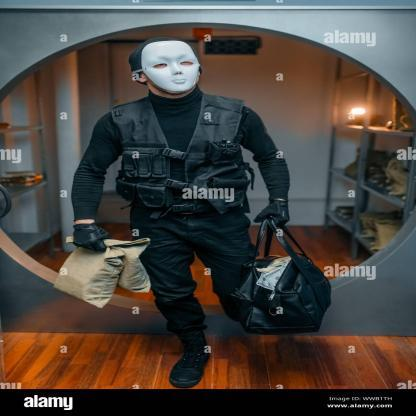criminal: (72, 37, 291, 388)
